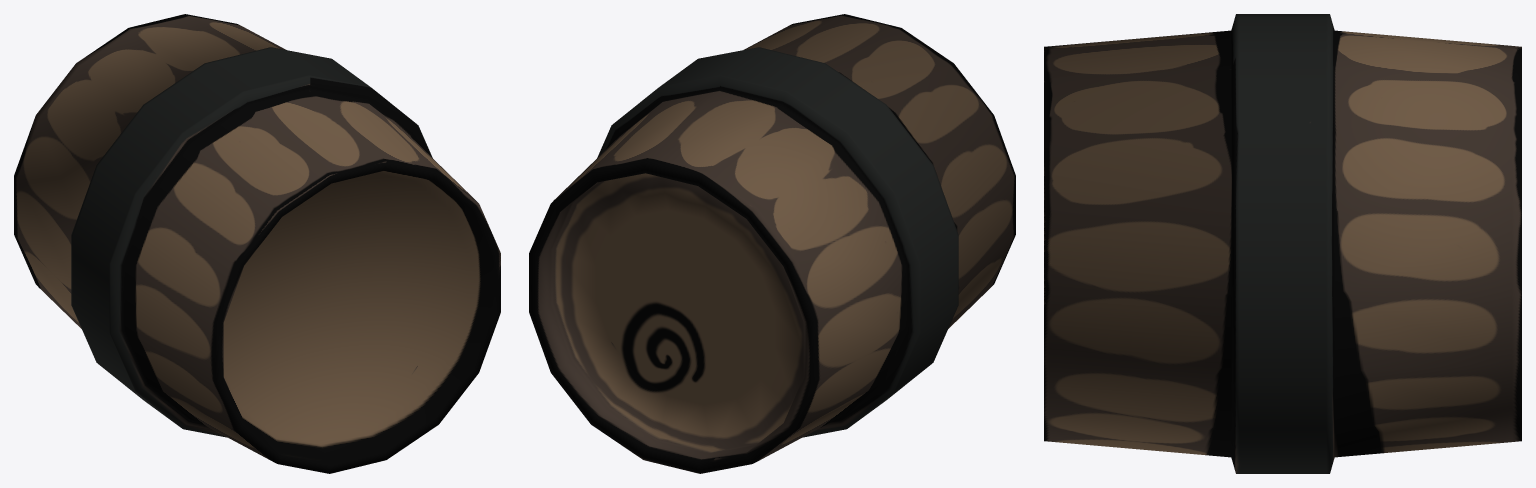
File: prop_barrel.fbx
3 renders of one model, left to right at view 1: azimuth 30°, elevation 25°; view 2: azimuth 150°, elevation 25°; view 3: azimuth 270°, elevation 25°, orthographic. The views are drawn at different scales.
Visible parts, largest first — view 1: Cylinder.001; view 2: Cylinder.001; view 3: Cylinder.001.
Boxes of the visible parts, <box> form: Cylinder.001: <box>14,14,500,473</box>; Cylinder.001: <box>529,14,1015,473</box>; Cylinder.001: <box>1044,14,1521,473</box>.
Size of the model in its own units: 229 by 229 by 240.
